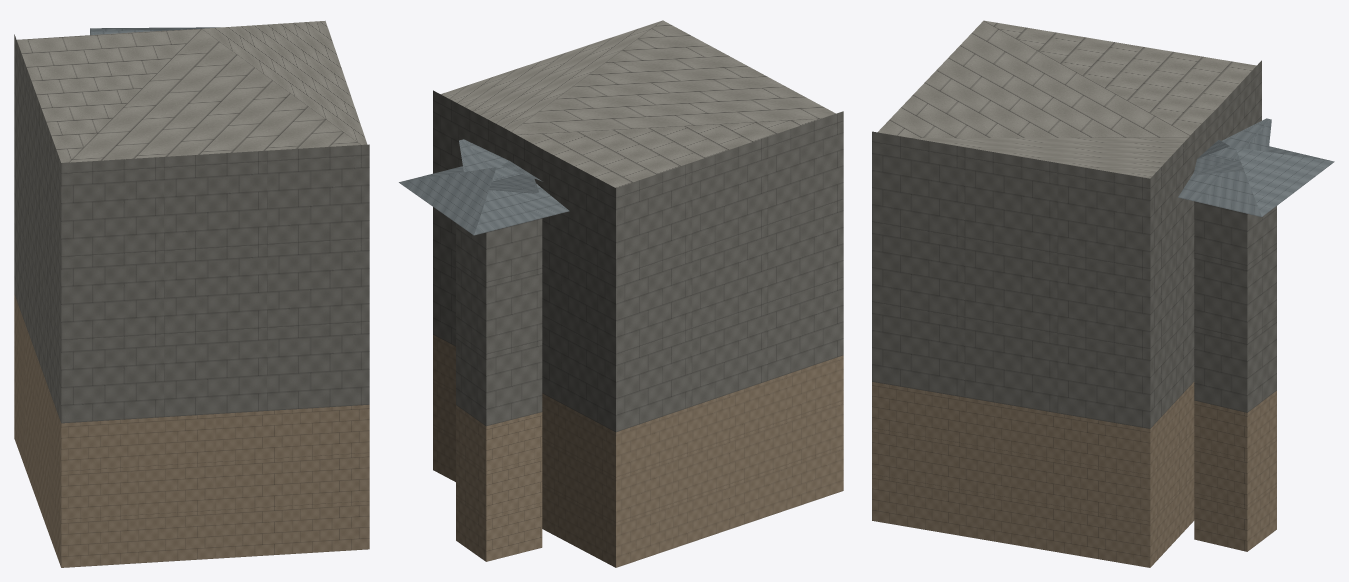
File: bld_c21_43_379.gltf
3 renders of one model, left to right at view 1: azimuth 30°, elevation 25°; view 2: azimuth 150°, elevation 25°; view 3: azimuth 270°, elevation 25°, orthographic. The views are drawn at different scales.
Visible parts, largest first — view 1: bld_c21_43_379; view 2: bld_c21_43_379; view 3: bld_c21_43_379.
Boxes of the visible parts, bbox=[...] form: bld_c21_43_379: bbox=[14, 20, 369, 567]; bld_c21_43_379: bbox=[399, 20, 843, 567]; bld_c21_43_379: bbox=[872, 20, 1334, 567].
Bounding box in the file's own units: 12.95 × 14.98 × 15.39.
Materials: 5 (5 with a texture image).
